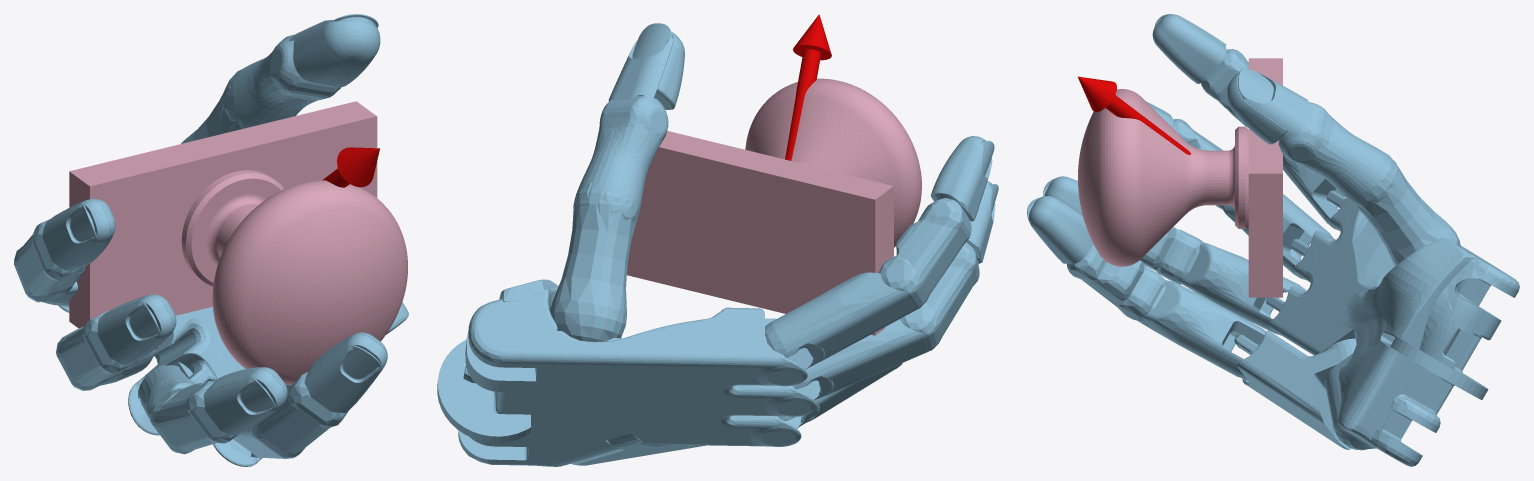
3 views of the same model, side by side, from view 1: azimuth 30°, elevation 25°; view 2: azimuth 150°, elevation 25°; view 3: azimuth 270°, elevation 25° (orthographic). The views are drawn at different scales.
Parts seen in each view (by area): view 1: door_knob.stl, world; view 2: world, door_knob.stl; view 3: world, door_knob.stl.
Part boxes in pixels (x1,y1,x2,y2): door_knob.stl: (69, 101, 407, 385); world: (14, 14, 408, 466); world: (437, 14, 998, 466); door_knob.stl: (627, 78, 921, 335); world: (1027, 14, 1519, 466); door_knob.stl: (1078, 58, 1282, 297).
Size of the model in its own units: 0.1578 by 0.1486 by 0.1803.
